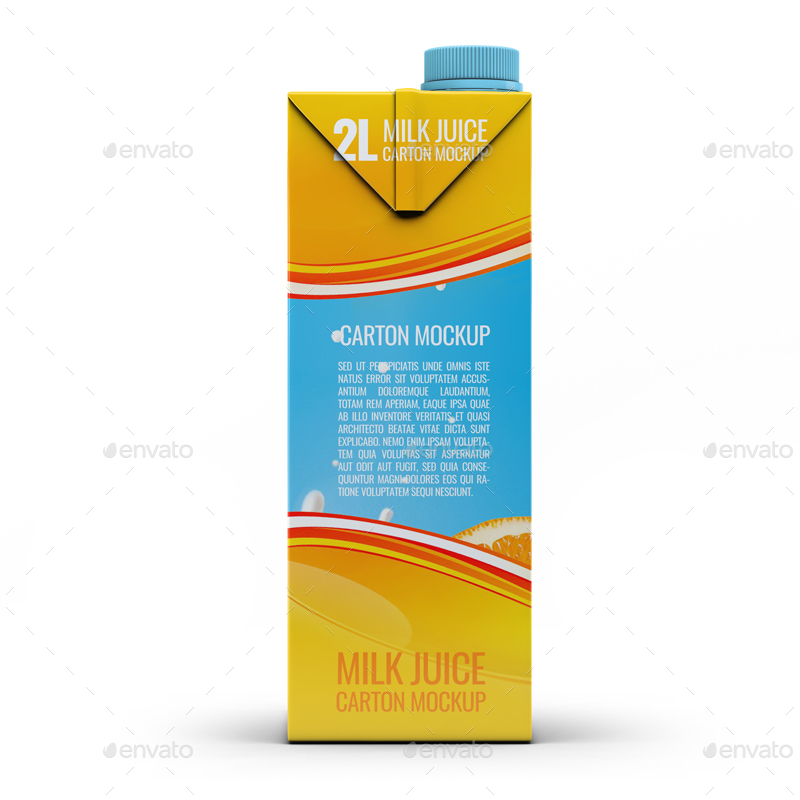Carton: (283, 41, 539, 751)
